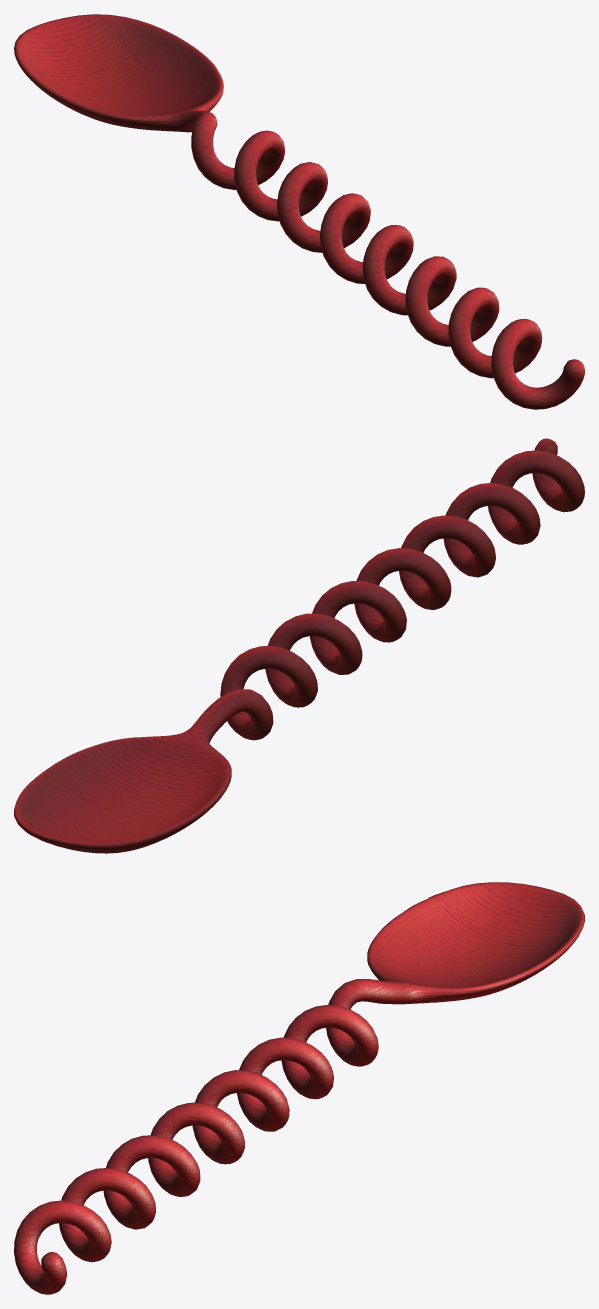
Rendered from 16_Coil.glb.
3 views of the same model, one above another, from view 1: azimuth 30°, elevation 25°; view 2: azimuth 150°, elevation 25°; view 3: azimuth 330°, elevation 25° (orthographic). The views are drawn at different scales.
Parts seen in each view (by area): view 1: 16_Coil; view 2: 16_Coil; view 3: 16_Coil.
Boxes of the visible parts, bbox=[...] form: 16_Coil: bbox=[14, 14, 584, 409]; 16_Coil: bbox=[14, 438, 584, 853]; 16_Coil: bbox=[14, 882, 584, 1294].
Size of the model in its own units: 0.039 by 0.0178 by 0.2194.
Materials: 1 (1 with a texture image).
